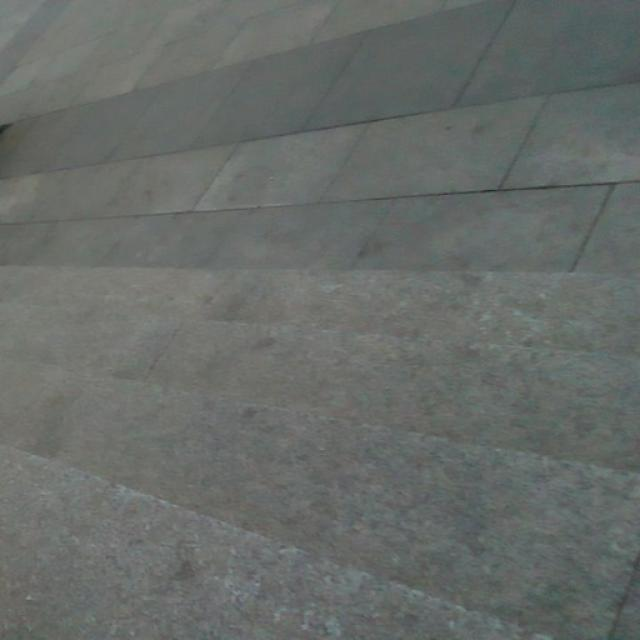stair: (16, 237, 640, 586)
